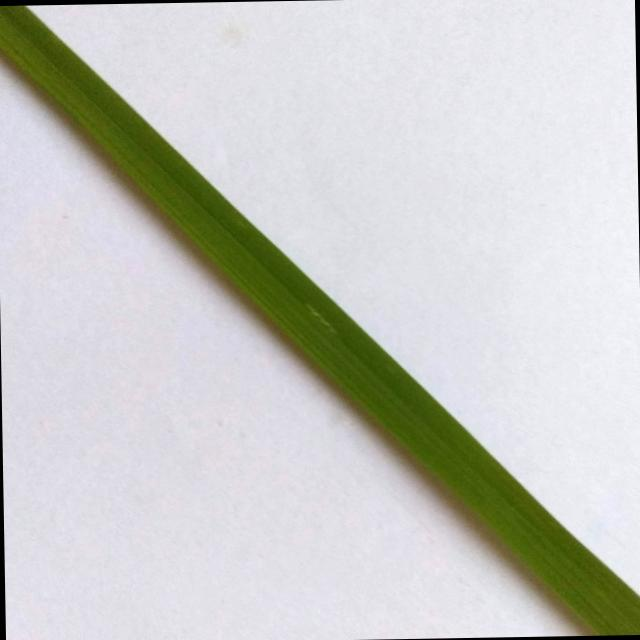Rice_Healthy: (0, 5, 640, 635)
